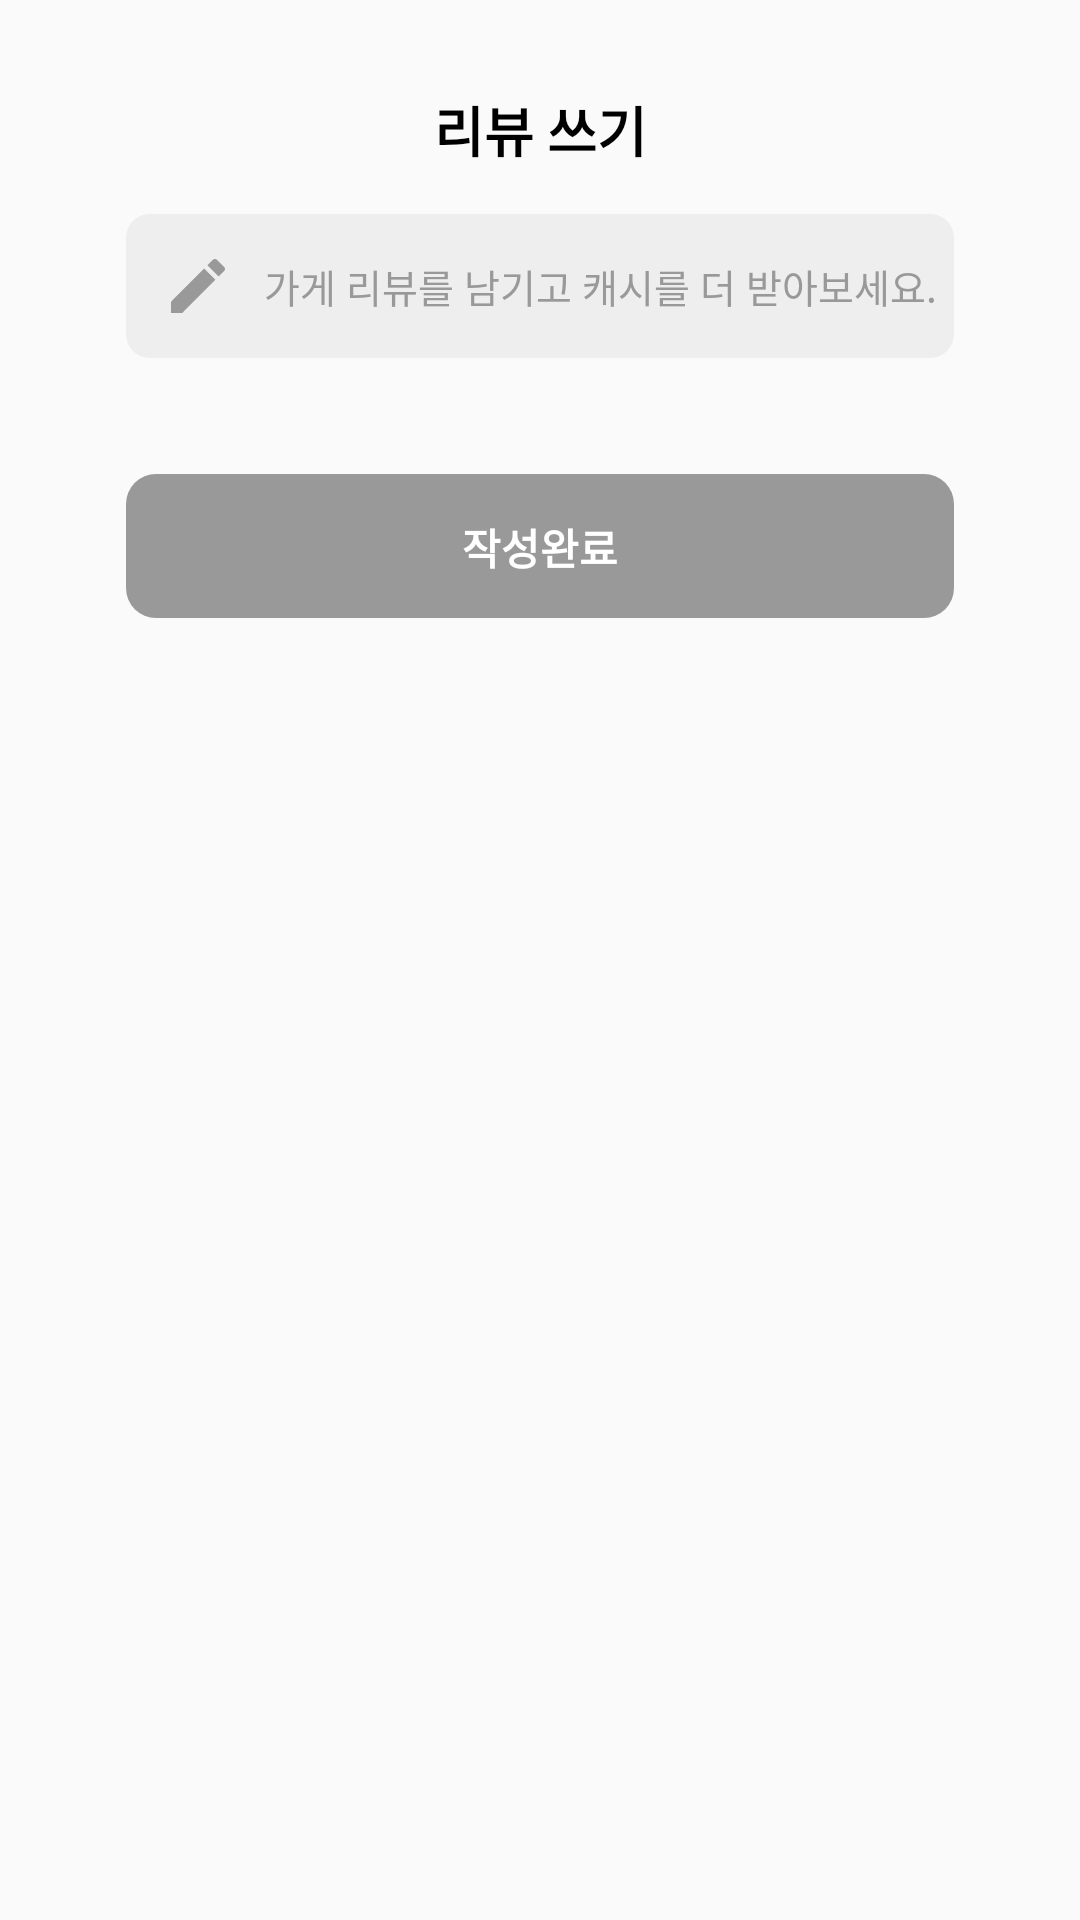

Locate icon controls on the screen. Image size 1080×1920, boxes as (x1, y1, x2, y2).
edit: (171, 259, 225, 313)
